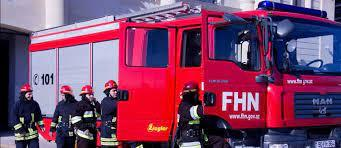Fire-engine: (28, 8, 340, 144)
